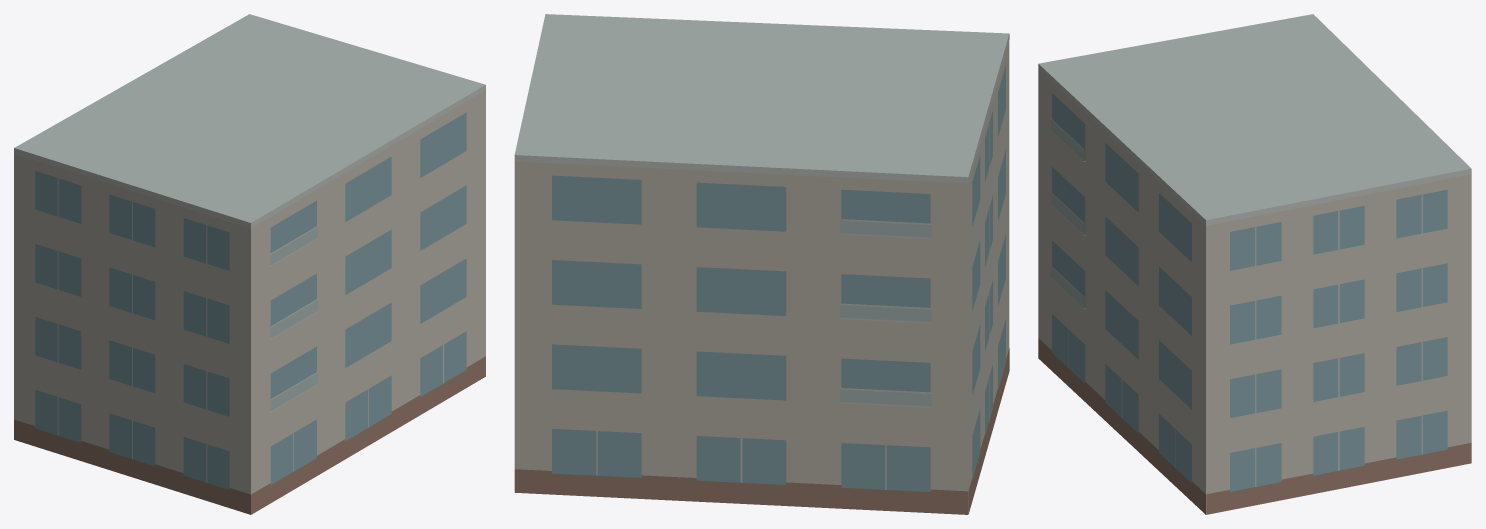
The model's file is survey-upis-32750241.glb.
3 renders of one model, left to right at view 1: azimuth 30°, elevation 25°; view 2: azimuth 150°, elevation 25°; view 3: azimuth 270°, elevation 25°, orthographic. The views are drawn at different scales.
Parts seen in each view (by area): view 1: survey-upis-32750241.tmp; view 2: survey-upis-32750241.tmp; view 3: survey-upis-32750241.tmp.
Boxes of the visible parts, box(x1,y1,x2,y2) form: survey-upis-32750241.tmp: box(14, 14, 485, 514); survey-upis-32750241.tmp: box(514, 14, 1009, 514); survey-upis-32750241.tmp: box(1038, 14, 1471, 514).
Bounding box in the file's own units: 19.22 × 12.8 × 17.07.
